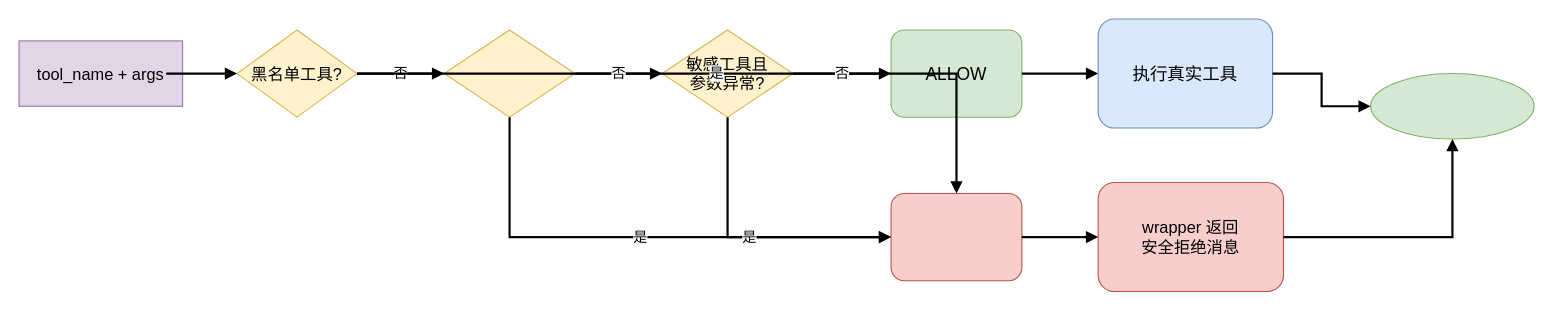
Image size: 1553x311. Some labels were removed from this diagram. The shapes that lost their labels are listed below. From the top down, each one's box as (x1, y1, x2, y2) in pixels, then its label:
(443, 29, 575, 117): desc 扫描 已标恶意?
(1370, 72, 1534, 139): 返回给 Executor
(890, 192, 1022, 281): BLOCK
